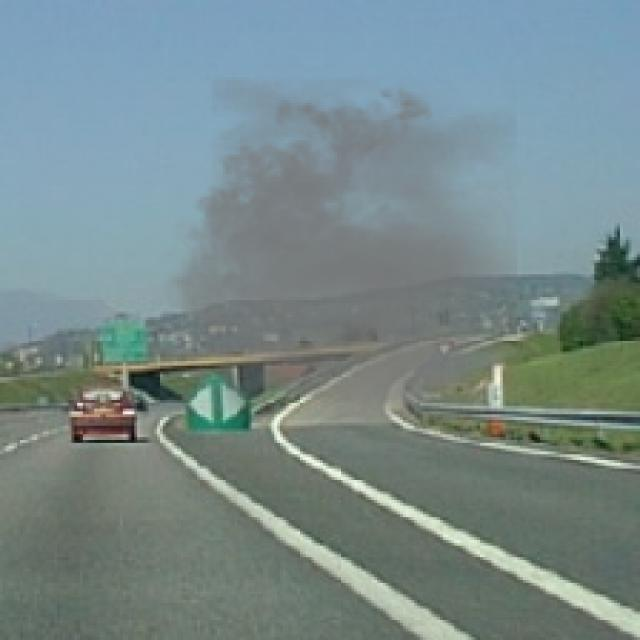smoke: (152, 77, 517, 423)
